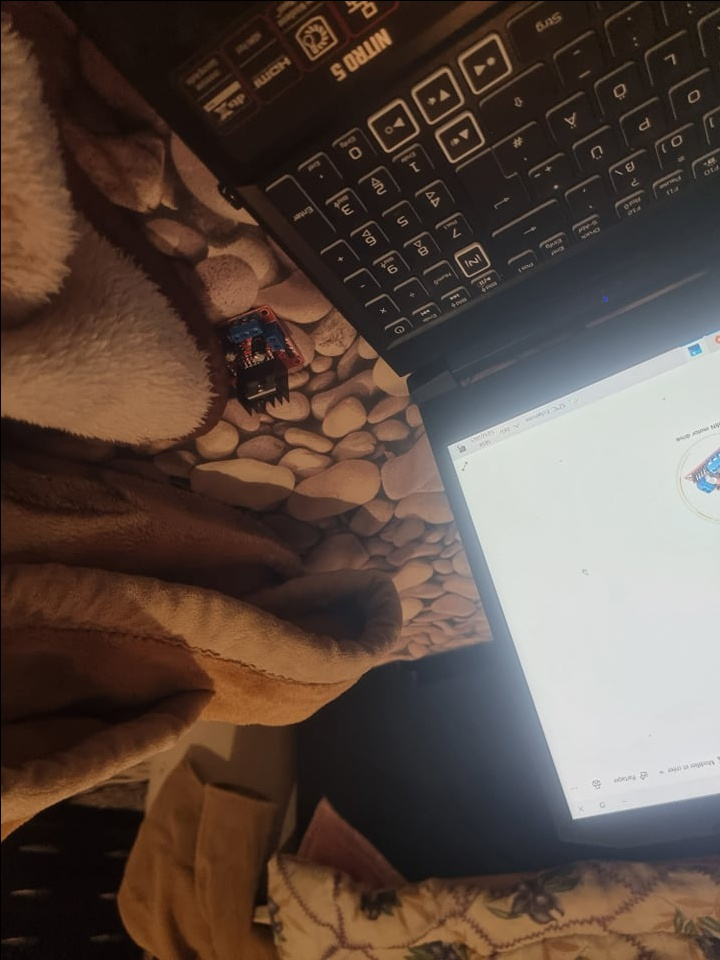MOTOR: (214, 303, 304, 416)
